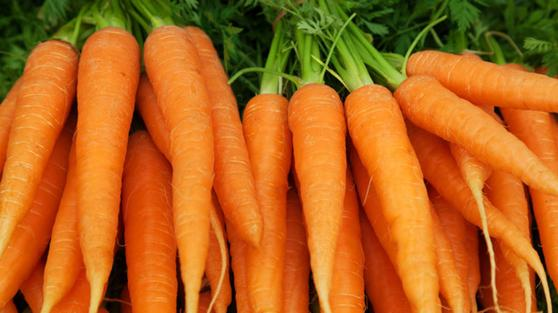carrot: (347, 81, 445, 313), (142, 24, 219, 313), (396, 72, 558, 202), (78, 27, 139, 307), (2, 39, 74, 253), (286, 81, 348, 313)
